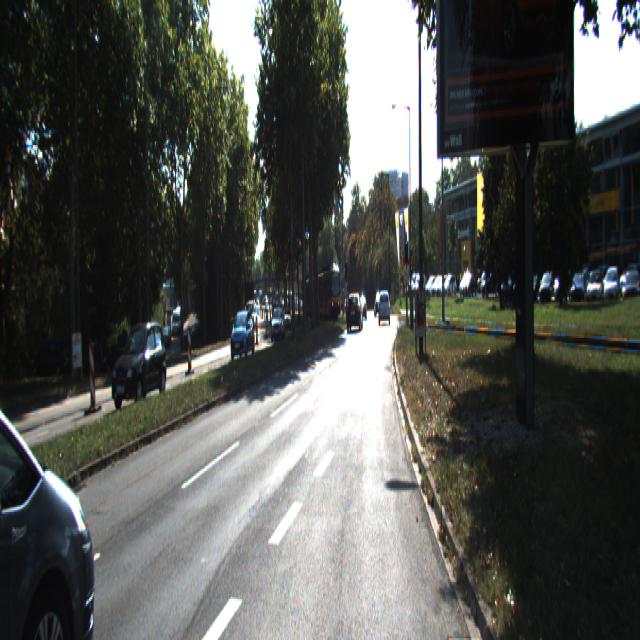Car: (0, 273, 89, 638), (111, 319, 168, 410), (307, 267, 341, 322), (230, 311, 255, 360), (346, 293, 364, 333), (379, 291, 390, 325)
